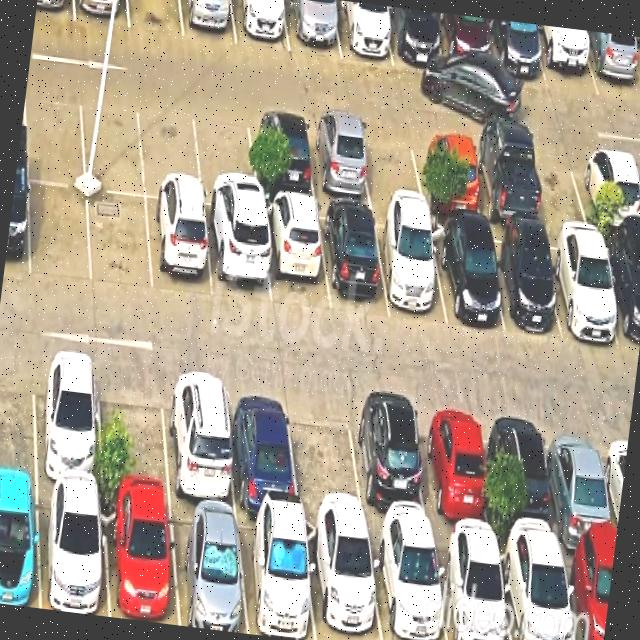empty: (288, 388, 365, 525), (98, 361, 170, 501), (192, 103, 258, 211), (79, 89, 144, 196), (88, 190, 152, 293), (140, 97, 202, 202), (24, 81, 85, 186), (29, 182, 91, 283), (358, 121, 425, 207), (530, 140, 595, 226), (0, 349, 36, 481), (127, 0, 183, 37)
occupied: (348, 395, 431, 532), (416, 400, 492, 540), (168, 503, 248, 634), (163, 370, 235, 509), (237, 512, 315, 640), (226, 378, 299, 514), (102, 495, 178, 625), (544, 414, 616, 551), (33, 351, 102, 491), (490, 407, 560, 545), (304, 519, 382, 640), (38, 486, 109, 616), (544, 227, 621, 343), (368, 530, 447, 640), (429, 220, 504, 332), (373, 212, 447, 325), (433, 534, 511, 640), (483, 226, 560, 333), (318, 204, 389, 314), (497, 541, 574, 640), (261, 198, 329, 310), (146, 198, 213, 298), (204, 207, 270, 305), (470, 135, 541, 225), (414, 128, 482, 217), (248, 110, 315, 199), (306, 116, 372, 203), (560, 546, 614, 640), (0, 482, 39, 608), (583, 144, 640, 230), (600, 233, 640, 351), (533, 24, 598, 96), (383, 5, 445, 73), (487, 18, 547, 88), (581, 30, 640, 101), (437, 12, 496, 80), (332, 0, 392, 65), (284, 0, 340, 56), (231, 0, 289, 51), (3, 175, 29, 277), (180, 0, 236, 44), (73, 0, 129, 27), (35, 0, 74, 20)
